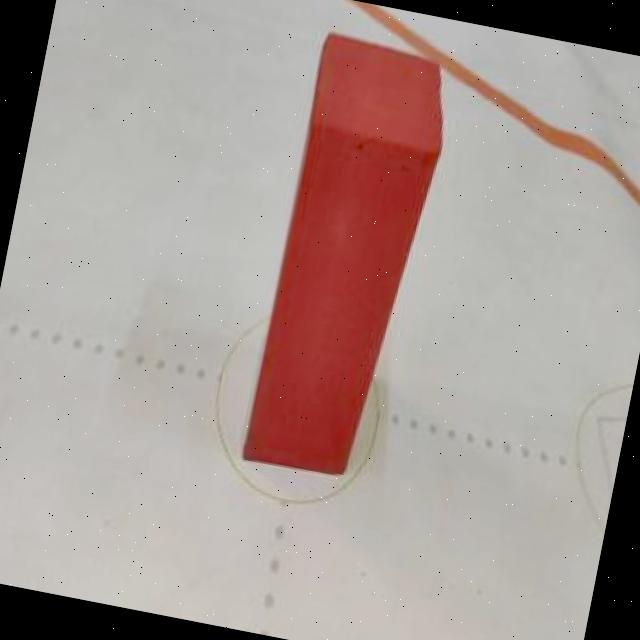redbox: (238, 30, 461, 483)
